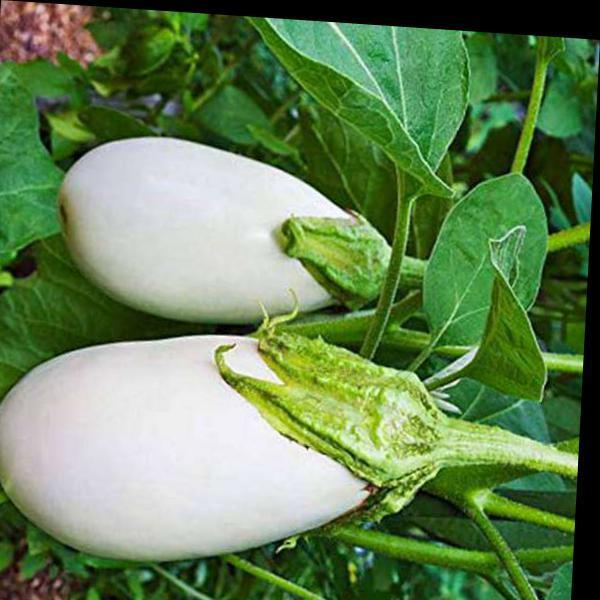eggplant: (0, 290, 513, 586), (58, 102, 461, 353)
